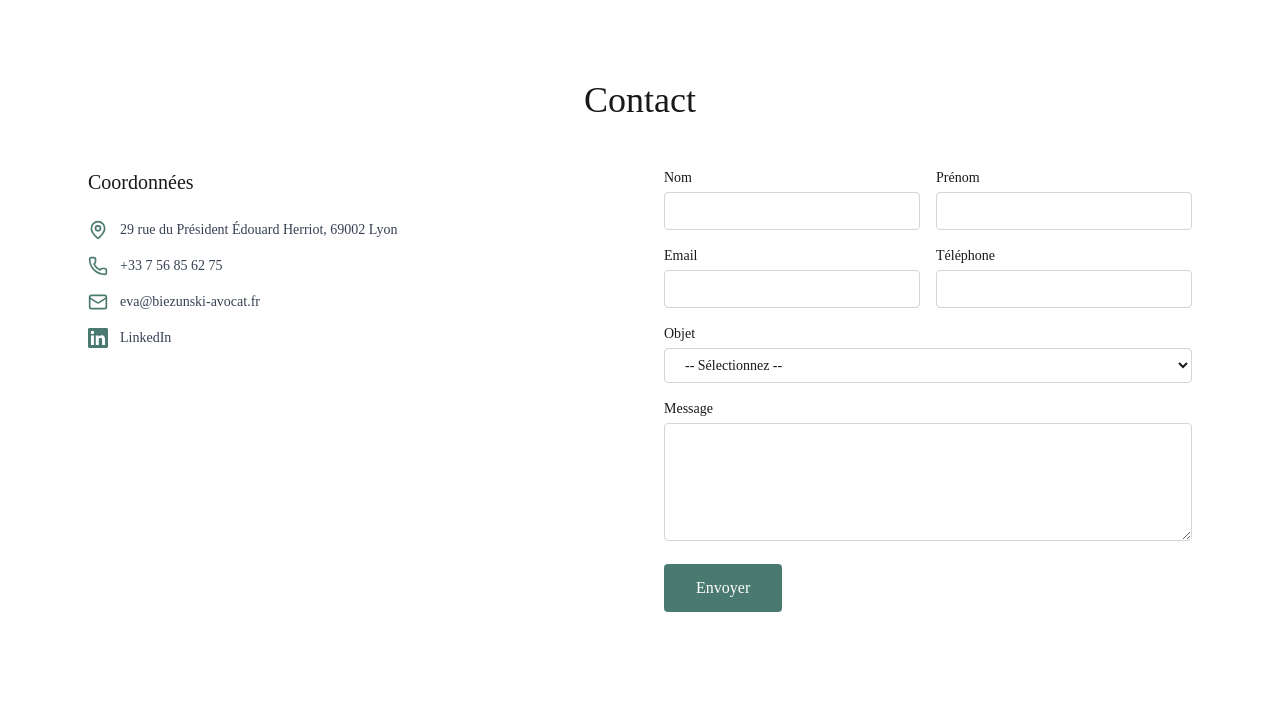
Contact › submission › shows an error message when the request fails
In the field labelled "Nom": point(792, 211) [664,192,920,230], type "Dupont"
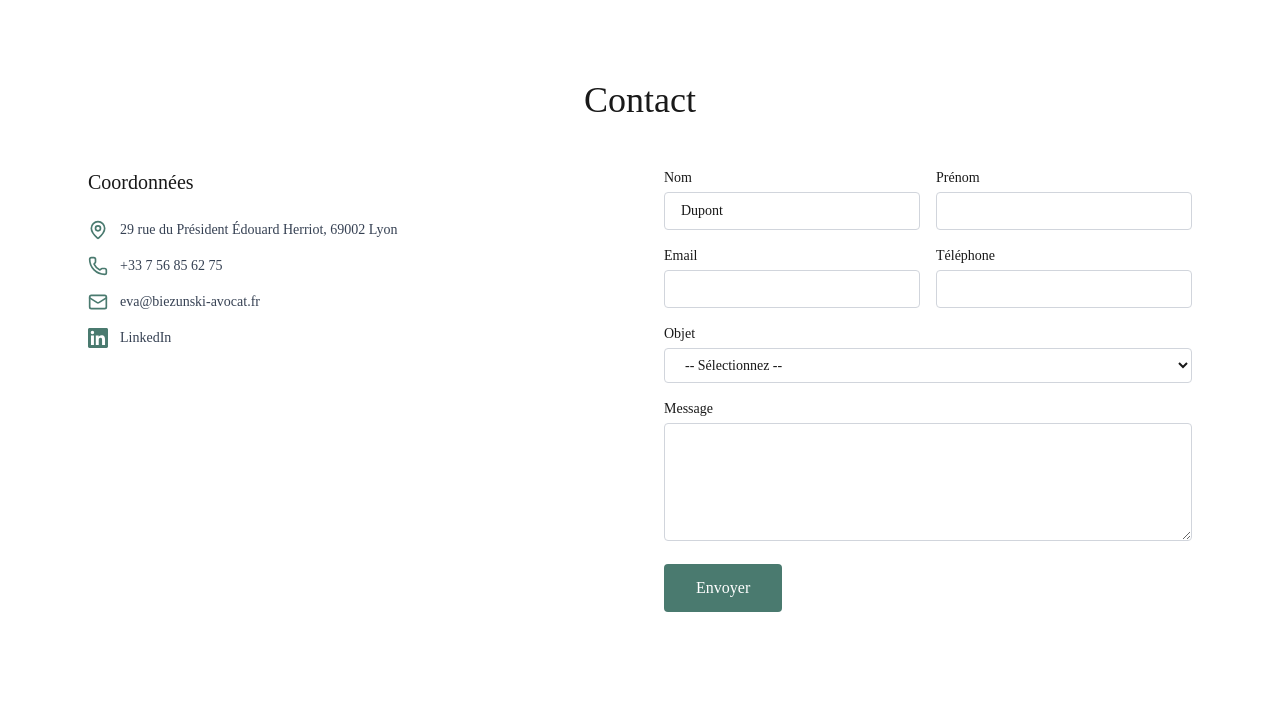
In the field labelled "Prénom": point(1064, 211) [936,192,1192,230], type "Marie"
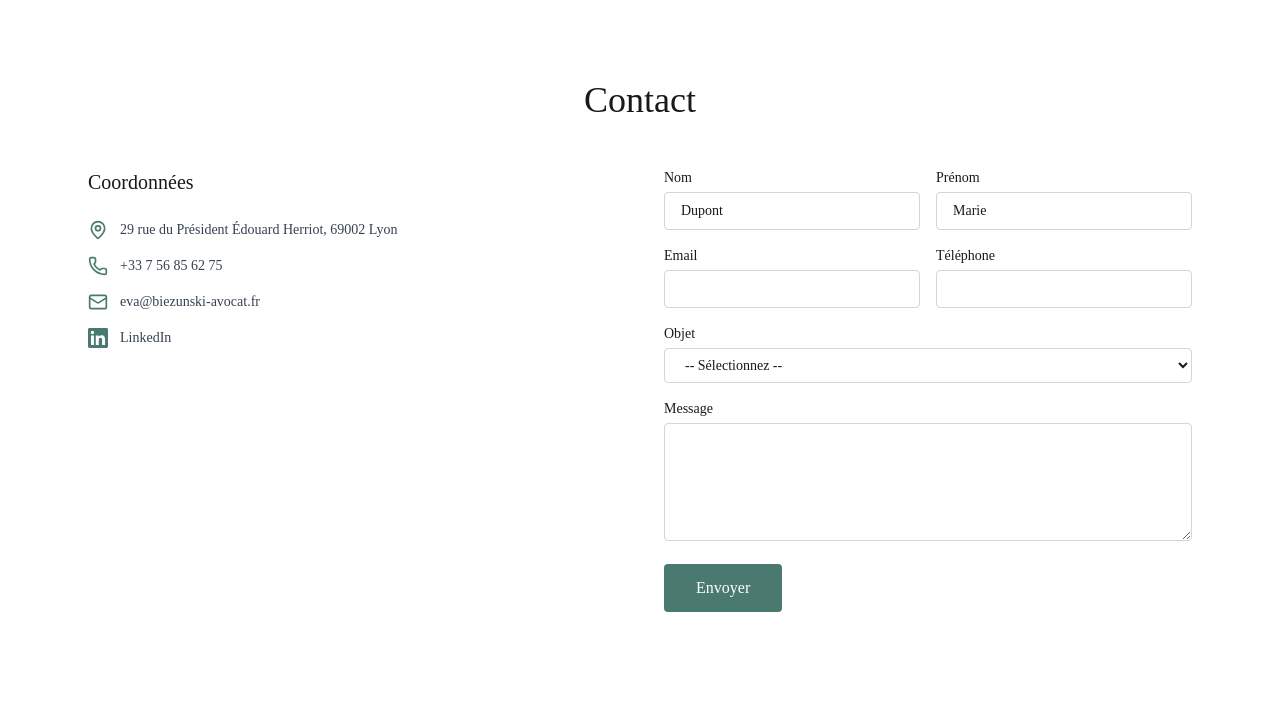
In the field labelled "Email": point(792, 289) [664,270,920,308], type "marie@example.com"
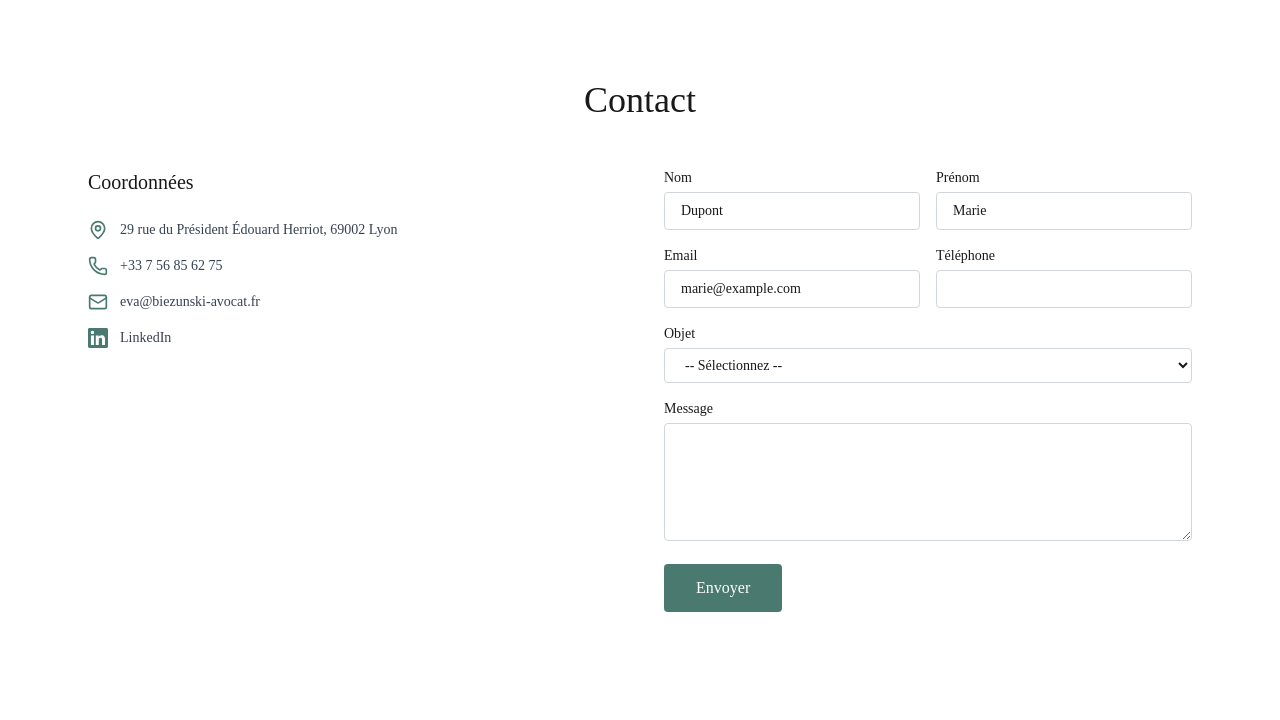
In the text box labelled "Message": point(928, 482) [664,423,1192,541], type "Bonjour."
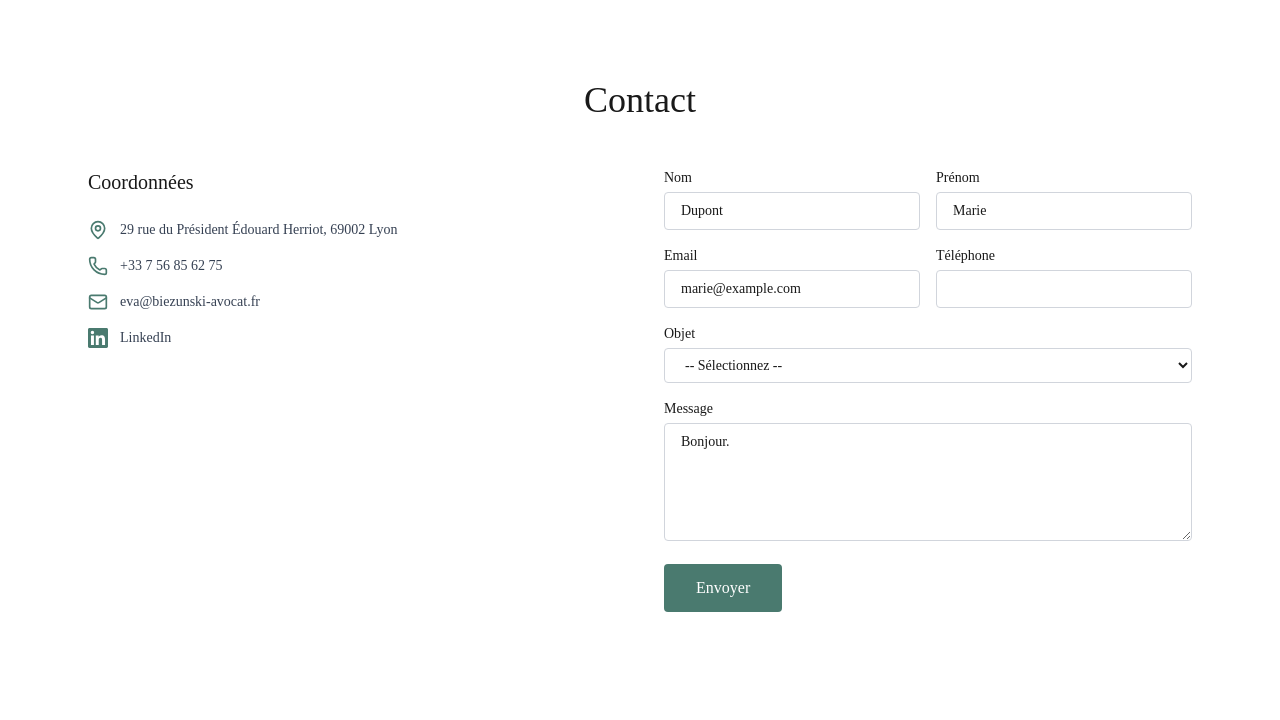
Click the button "Envoyer": point(723, 588) [664,564,782,612]
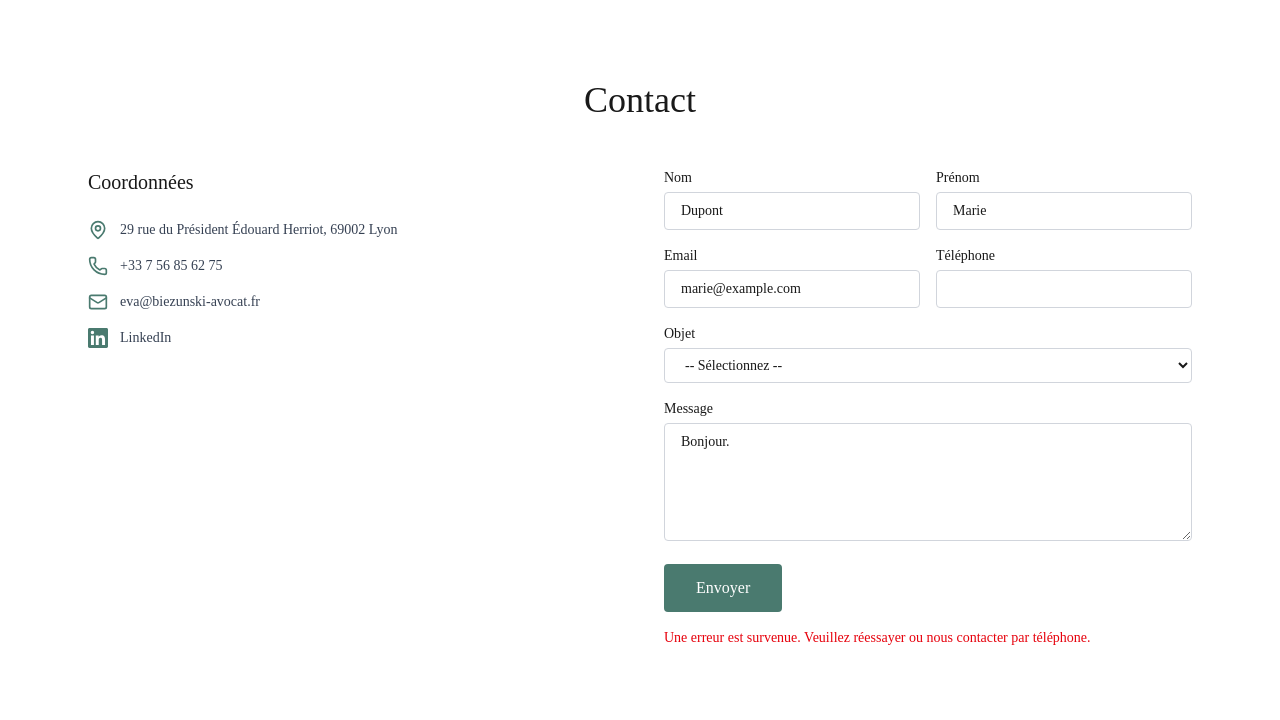
Result: the text "Une erreur est survenue. Veuillez réessayer ou nous contacter par téléphone." is shown at [664,630,1091,645]
